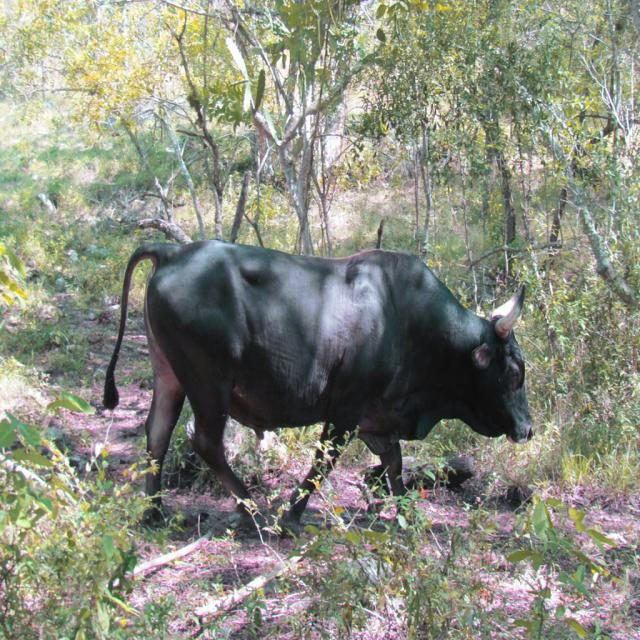cow: (104, 240, 531, 532)
